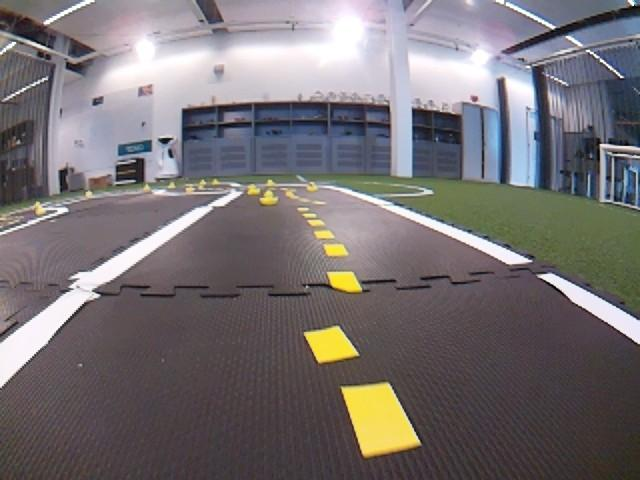Duckies: (259, 191, 278, 205), (246, 185, 260, 194), (307, 182, 318, 191), (35, 206, 47, 214), (266, 179, 275, 186), (185, 185, 194, 192), (212, 179, 221, 185), (168, 182, 176, 188), (33, 202, 41, 208), (143, 184, 150, 190), (198, 181, 206, 186), (85, 192, 93, 197)
